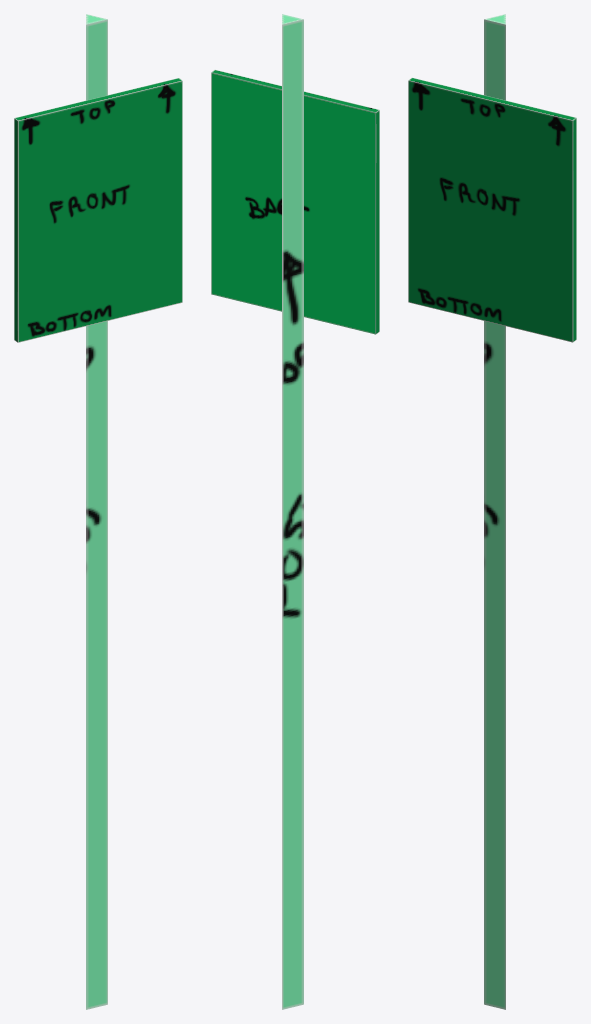
File: env_streetSign_a.fbx
The picture shows the model from 3 angles, left to right: view 1: azimuth 30°, elevation 25°; view 2: azimuth 150°, elevation 25°; view 3: azimuth 330°, elevation 25°; orthographic projection.
Parts seen in each view (by area): view 1: streetsign_a; view 2: streetsign_a; view 3: streetsign_a.
Boxes of the visible parts, <box> form: streetsign_a: <box>14,14,182,1009</box>; streetsign_a: <box>211,14,379,1009</box>; streetsign_a: <box>408,14,576,1009</box>.
Size of the model in its own units: 7 by 40.02 by 1.1.
